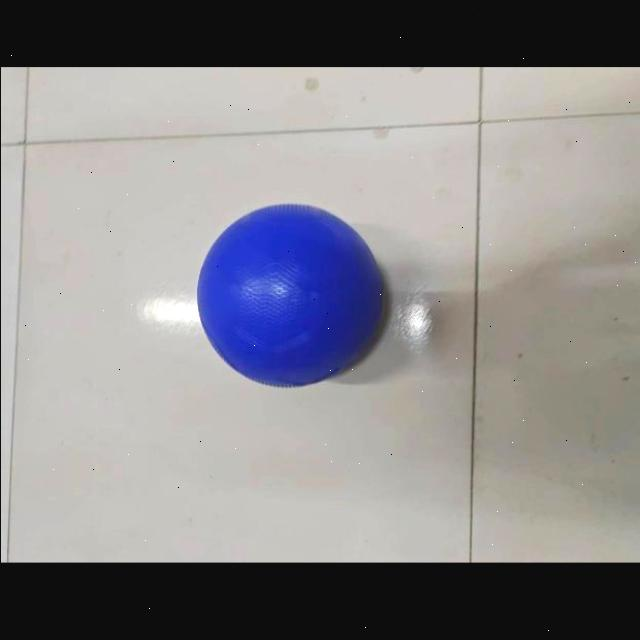B: (195, 200, 385, 392)
